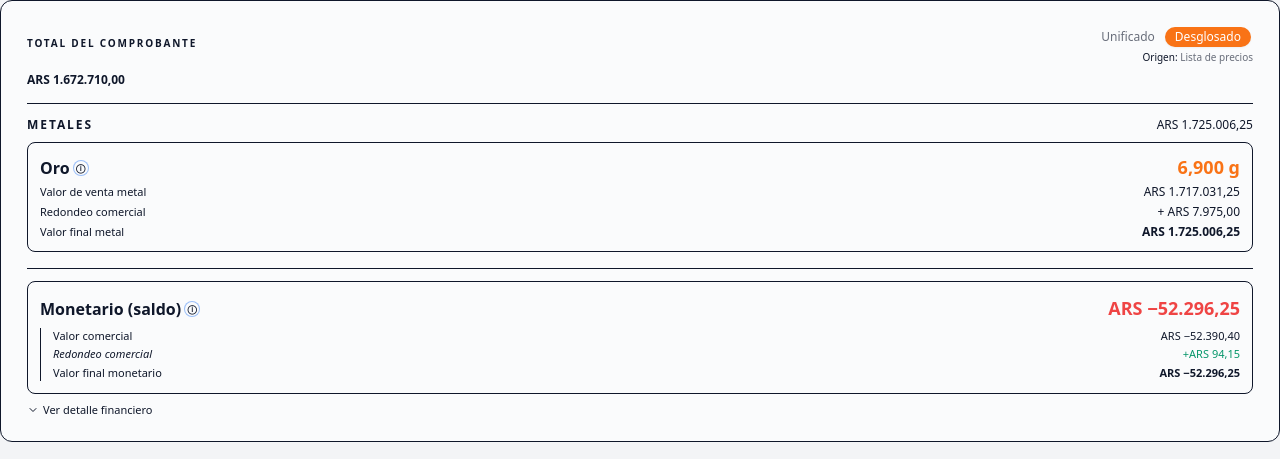
Test case: DESGLOSADO autocontenido — tooltips de trazabilidad › 4a) el tooltip del metal muestra la CUENTA (gramos × precio/g = valor), sin Antes/Después/Impacto
The image size is (1280, 459).
What coordinates should you click on to do the following:
click the button with test id "origin-tooltip-trigger-oro"
I would click on:
 (81, 168)
Its box is [74, 160, 88, 174].
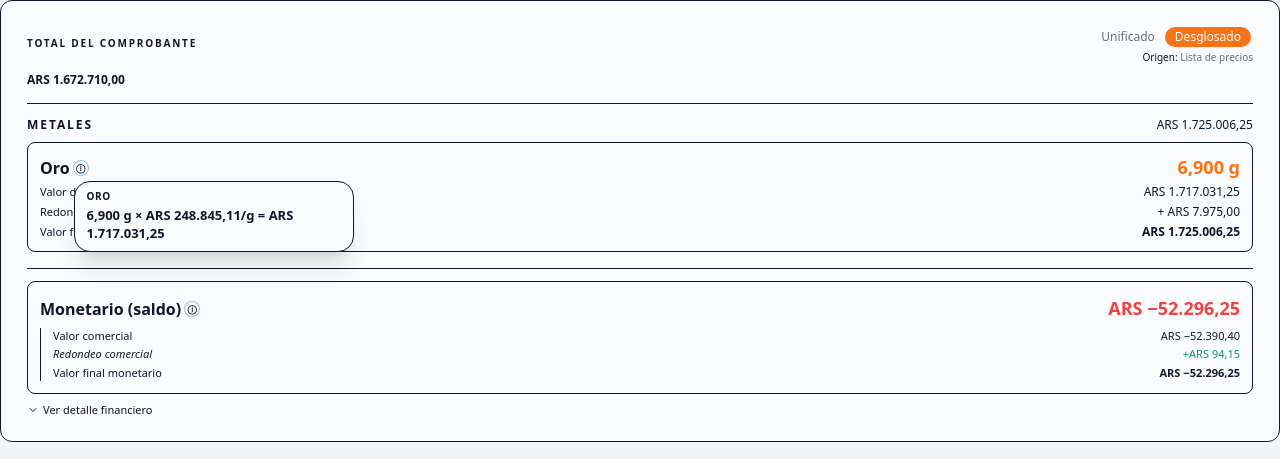
Check: the element with test id "origin-tooltip-content-oro" shows "×", box [87, 206, 293, 242]
Check: the element with test id "origin-tooltip-content-oro" shows "/g", box [87, 188, 293, 242]
Check: the element with test id "origin-tooltip-content-oro" shows "=", box [87, 206, 293, 242]
